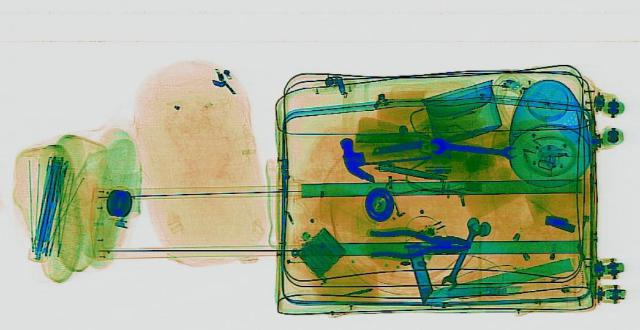Pliers: (367, 228, 471, 257)
Wrench: (434, 220, 486, 289), (424, 137, 518, 160)
